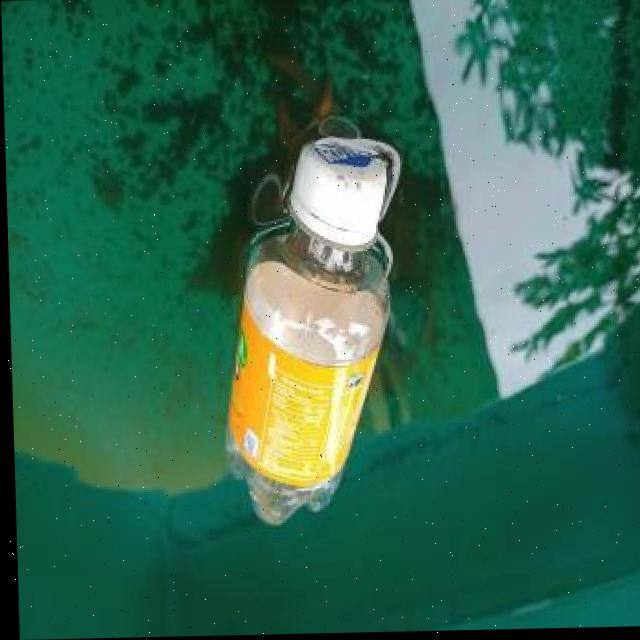bottle: (211, 136, 398, 533)
